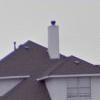Chimney: (41, 13, 68, 62)
